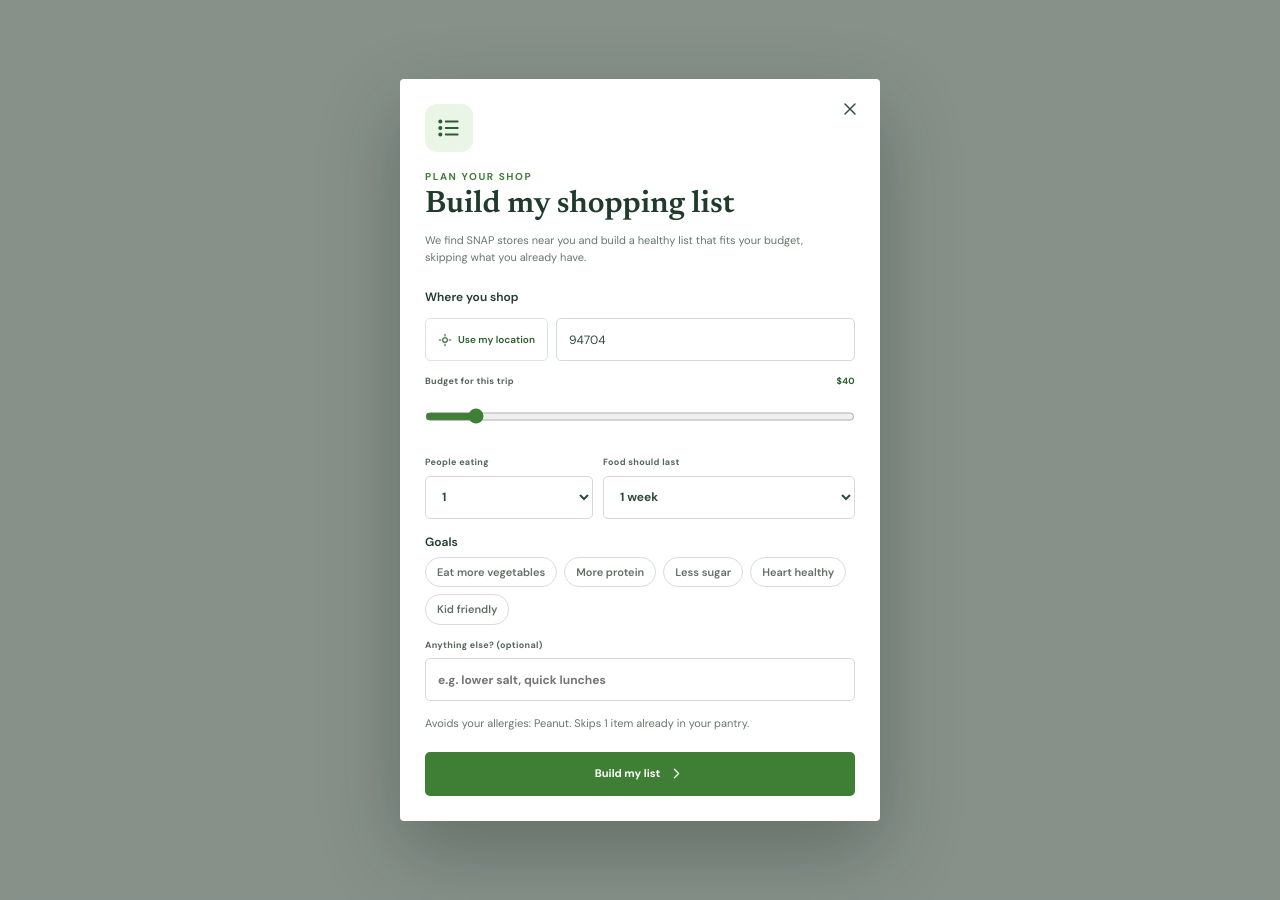
it: shows server errors in the form
Step 1. Click the button "Build my list" → {"x": 640, "y": 774}, box 425,752 -> 855,796
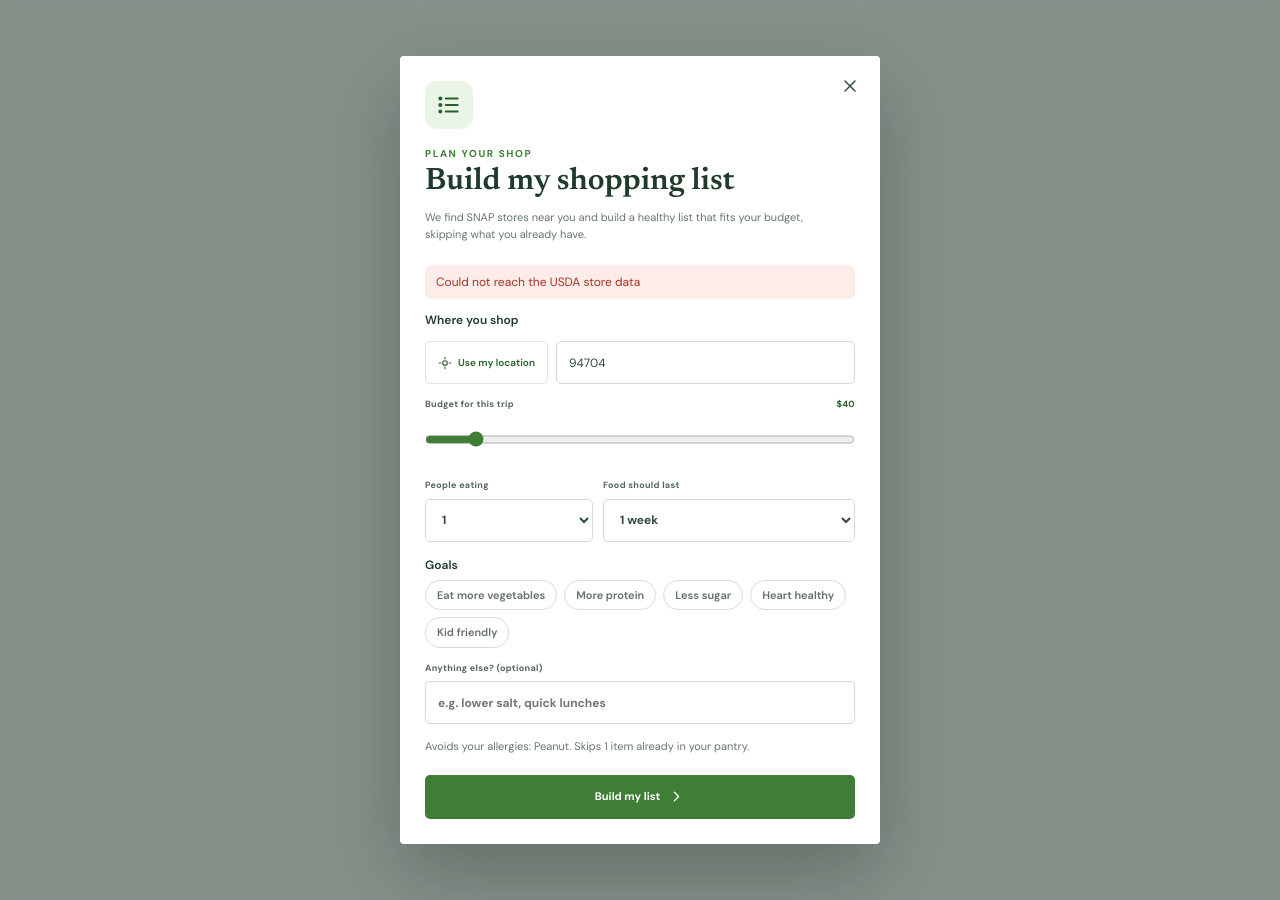
Check: the text "Could not reach the USDA store data" is shown, box 425,265 -> 855,299
